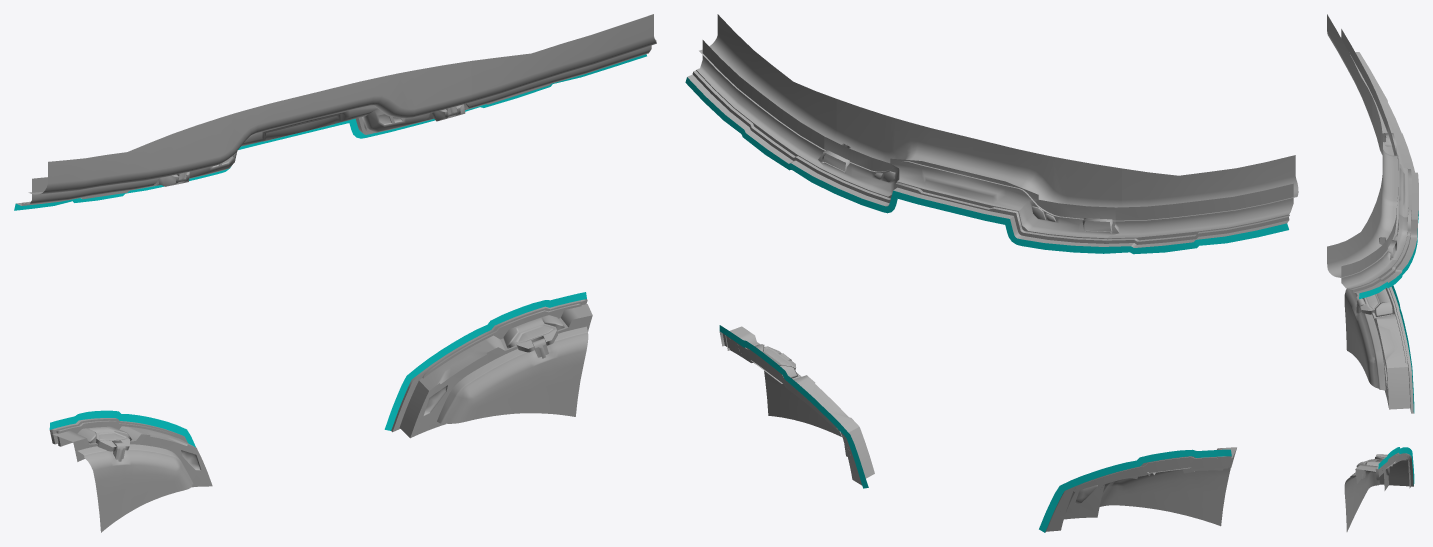
File: Helmet2.fbx
3 renders of one model, left to right at view 1: azimuth 30°, elevation 25°; view 2: azimuth 150°, elevation 25°; view 3: azimuth 270°, elevation 25°, orthographic. The views are drawn at different scales.
Visible parts, largest first — view 1: Helmet_Top, Helmet_Bottom_Right, Helmet_Bottom_Left, Visor_Top, Visor_Right, Visor_Left; view 2: Helmet_Top, Helmet_Bottom_Left, Helmet_Bottom_Right, Visor_Top, Visor_Left, Visor_Right; view 3: Helmet_Top, Helmet_Bottom_Left, Helmet_Bottom_Right, Visor_Top, Visor_Right, Visor_Left.
Boxes of the visible parts, bbox=[...] form: Helmet_Top: bbox=[16, 14, 656, 205]; Helmet_Bottom_Right: bbox=[391, 299, 592, 438]; Helmet_Bottom_Left: bbox=[49, 418, 212, 532]; Visor_Top: bbox=[14, 54, 646, 210]; Visor_Right: bbox=[384, 292, 586, 430]; Visor_Left: bbox=[49, 410, 195, 447]; Helmet_Top: bbox=[687, 14, 1298, 247]; Helmet_Bottom_Left: bbox=[1045, 447, 1236, 532]; Helmet_Bottom_Right: bbox=[719, 326, 874, 485]; Visor_Top: bbox=[685, 77, 1288, 254]; Visor_Left: bbox=[1039, 449, 1231, 532]; Visor_Right: bbox=[719, 325, 868, 488]; Helmet_Top: bbox=[1327, 14, 1418, 293]; Helmet_Bottom_Left: bbox=[1344, 286, 1413, 413]; Helmet_Bottom_Right: bbox=[1344, 452, 1413, 531]; Visor_Top: bbox=[1359, 211, 1418, 299]; Visor_Right: bbox=[1378, 447, 1414, 485]; Visor_Left: bbox=[1391, 285, 1414, 413].
Size of the model in its own units: 0.4719 by 0.2896 by 0.0753.
